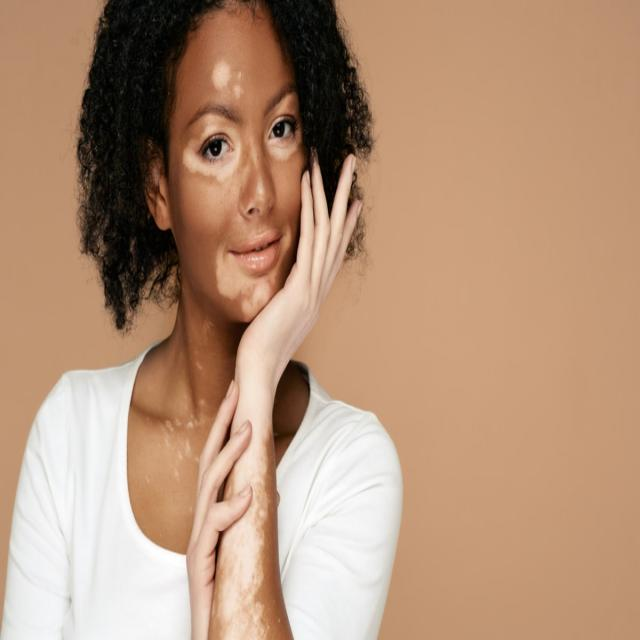vitiligo: (176, 58, 294, 310), (233, 407, 288, 640)
